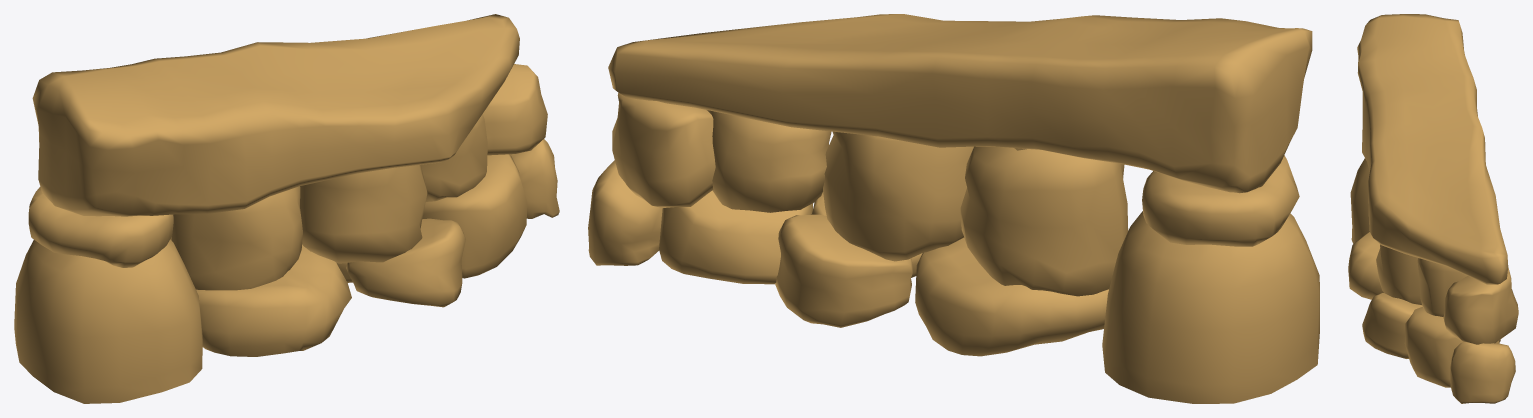
Rendered from Mode_Pont.fbx.
The picture shows the model from 3 angles, left to right: view 1: azimuth 30°, elevation 25°; view 2: azimuth 150°, elevation 25°; view 3: azimuth 270°, elevation 25°; orthographic projection. The views are drawn at different scales.
Parts seen in each view (by area): view 1: pont; view 2: pont; view 3: pont.
Part boxes in pixels (x1=…): pont: x1=14, y1=14, x2=559, y2=403; pont: x1=588, y1=14, x2=1319, y2=403; pont: x1=1348, y1=14, x2=1518, y2=403.
Bounding box in the file's own units: 3014 × 1459 × 1068.
